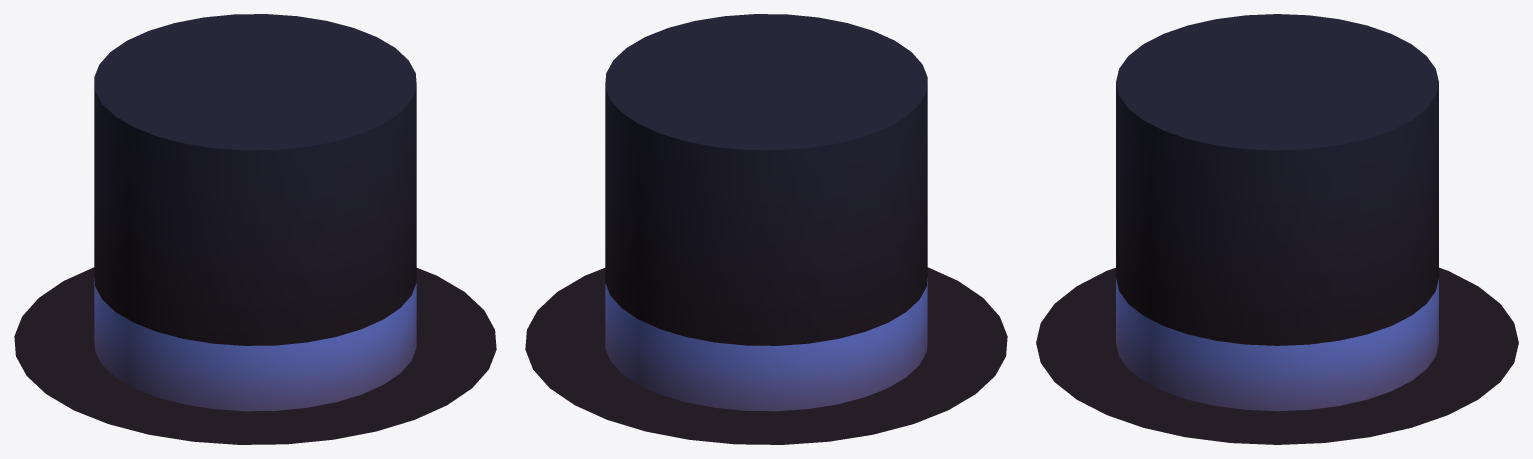
File: Hat.fbx
3 renders of one model, left to right at view 1: azimuth 30°, elevation 25°; view 2: azimuth 150°, elevation 25°; view 3: azimuth 270°, elevation 25°, orthographic.
Parts seen in each view (by area): view 1: HatMesh; view 2: HatMesh; view 3: HatMesh.
Part boxes in pixels (x1,y1,x2,y2): HatMesh: (14,14,496,444); HatMesh: (525,14,1007,444); HatMesh: (1036,14,1518,444).
Size of the model in its own units: 127 by 127 by 75.48.
